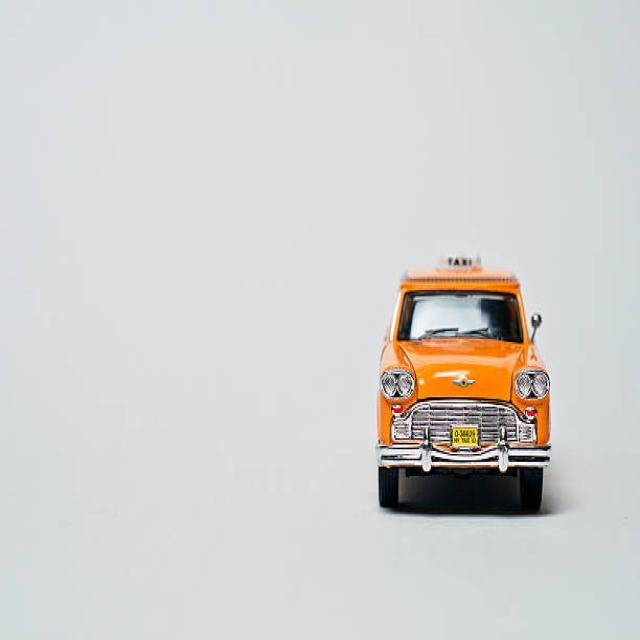Car: (374, 252, 551, 511)
